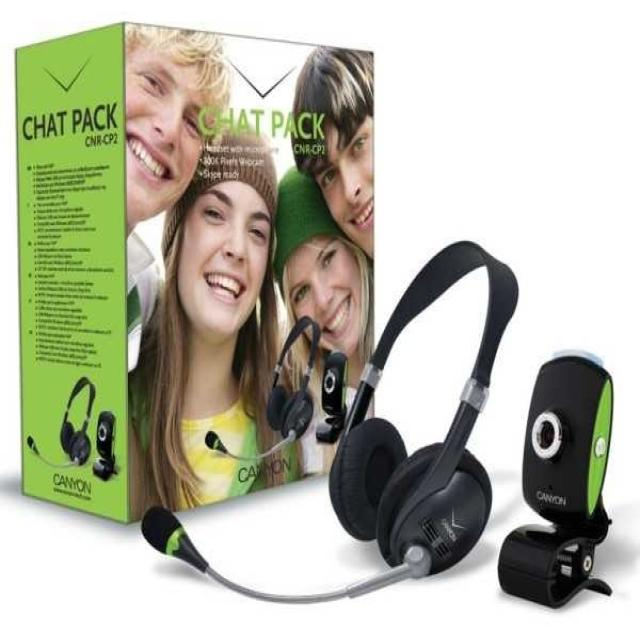microphone: (138, 511, 218, 582), (202, 428, 227, 459), (25, 433, 38, 457)
